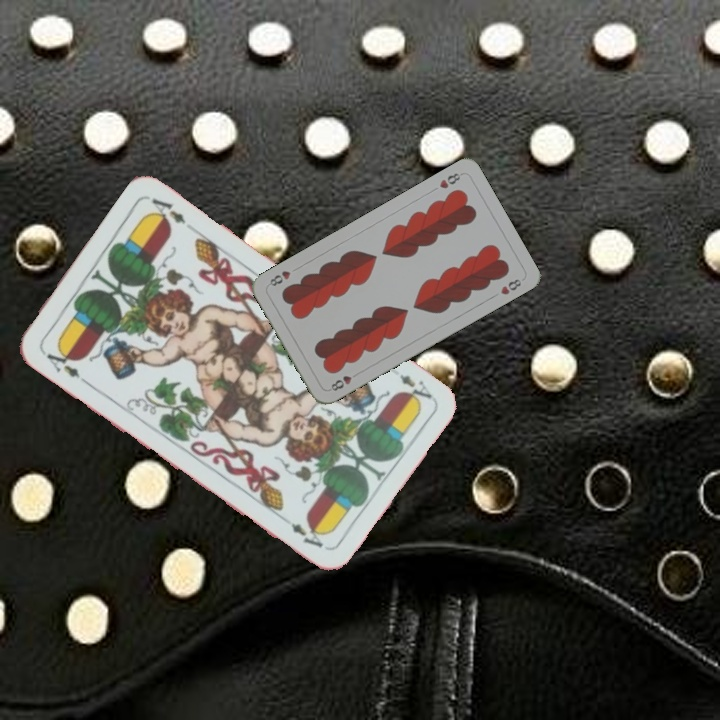EA: (384, 362, 435, 407), (38, 342, 83, 381)
H8: (325, 368, 362, 394), (435, 169, 465, 191)
